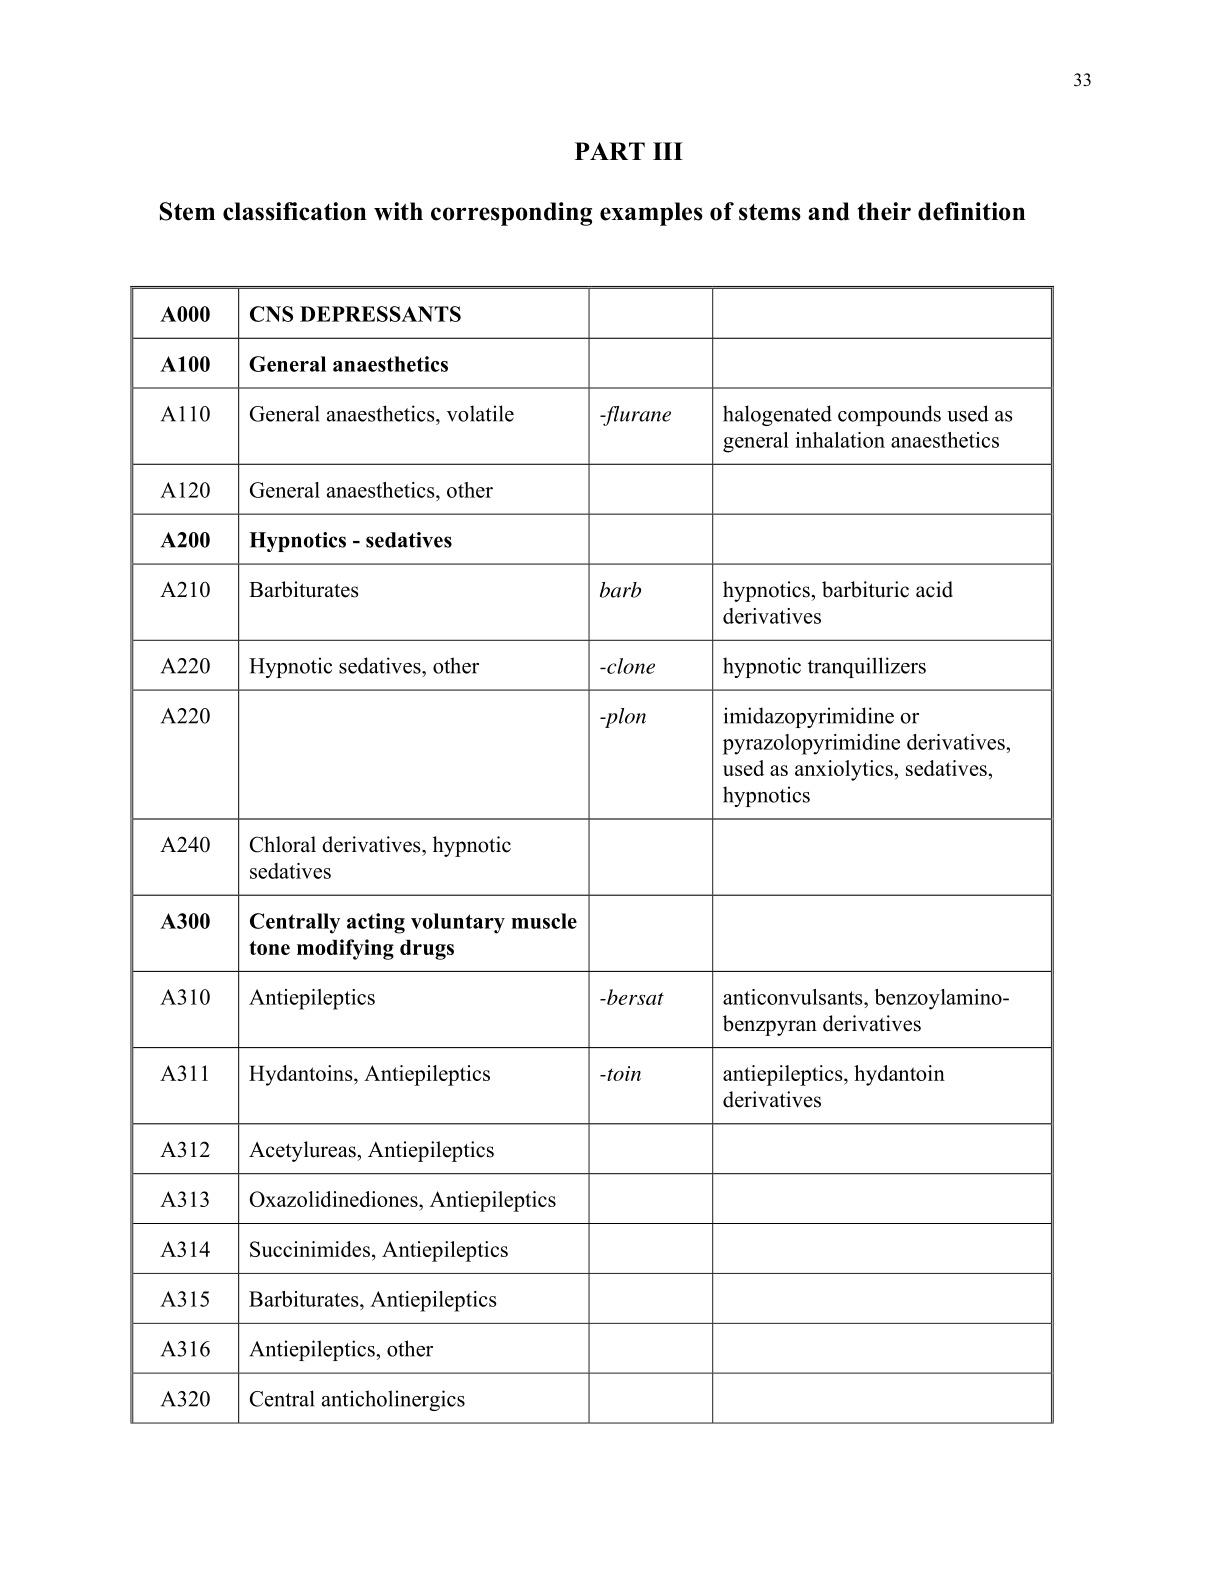full_lined: (114, 271, 1068, 1434)
